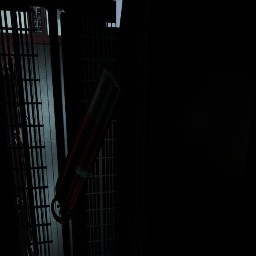NitrogenTank ,: (51, 64, 123, 224)
